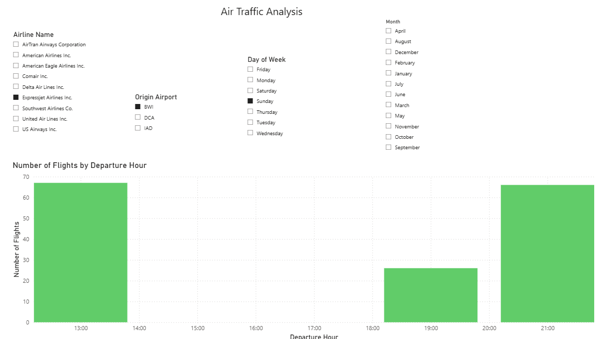

Layout of this report page (visuals, bound fields, positions):
{"tool":"powerbi","page":{"name":"Air Traffic Analysis","canvas":[1280,720],"ordinal":1},"visuals":[{"type":"slicer","fields":{"Values":["Sheet1 (2).Airline Name"]},"box":[27.4,66.2,252,239],"z":0},{"type":"slicer","fields":{"Values":["Sheet1 (2).Origin Airport"]},"box":[279.4,195.8,172.8,106.6],"z":1000},{"type":"slicer","fields":{"Values":["Sheet1 (2).Day of Week"]},"box":[512.6,118.1,231.8,187.2],"z":2000},{"type":"slicer","fields":{"Values":["Sheet1 (2).Month"]},"box":[799.2,41.8,139.7,299.5],"z":3000},{"type":"clusteredColumnChart","fields":{"Category":["Sheet1 (2).Departure Hour"],"Y":["Sum(Sheet1 (2).Number of Flights)"]},"box":[34.6,341.3,1215.4,378.7],"z":4000},{"type":"textbox","box":[365.8,11.5,378.7,60.5],"z":5000}]}

Visuals, with their boxes in screenshot pixels (x1, y1, x2, y2), scaled from the page's 1280x720 canvas onto the 602x339 screenshot:
slicer - Sheet1 (2).Airline Name: 13:31:131:144
slicer - Sheet1 (2).Origin Airport: 131:92:213:142
slicer - Sheet1 (2).Day of Week: 241:56:350:144
slicer - Sheet1 (2).Month: 376:20:442:161
clusteredColumnChart - Sheet1 (2).Departure Hour x Sum(Sheet1 (2).Number of Flights): 16:161:588:338
textbox: 172:5:350:34
